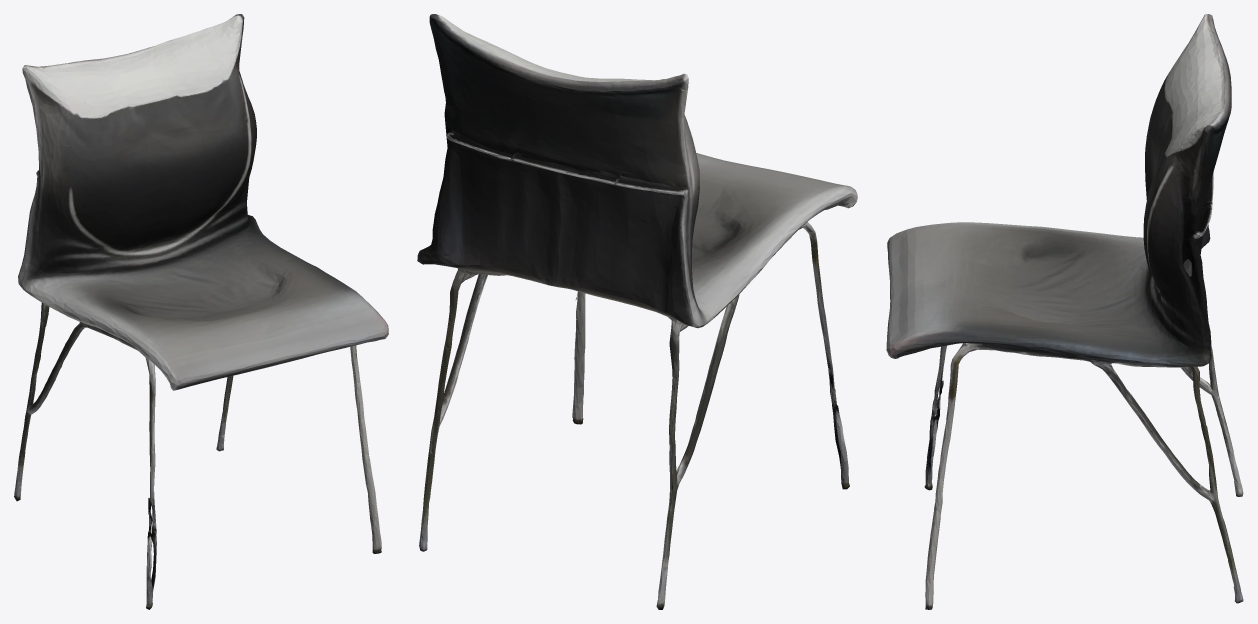
File: ast_5fc414eee7e8.glb
The picture shows the model from 3 angles, left to right: view 1: azimuth 30°, elevation 25°; view 2: azimuth 150°, elevation 25°; view 3: azimuth 270°, elevation 25°; orthographic projection. The views are drawn at different scales.
Parts seen in each view (by area): view 1: geometry_0; view 2: geometry_0; view 3: geometry_0.
Boxes of the visible parts, x1=… form: geometry_0: x1=14, y1=14, x2=388, y2=609; geometry_0: x1=417, y1=14, x2=857, y2=609; geometry_0: x1=886, y1=14, x2=1243, y2=609.
Size of the model in its own units: 0.5579 by 0.9963 by 0.6707.
Materials: 1 (1 with a texture image).
